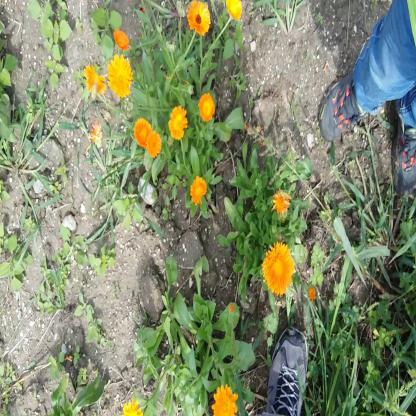marigold: (263, 240, 294, 296), (107, 55, 131, 96), (209, 384, 239, 414), (188, 2, 210, 36), (169, 105, 188, 139), (188, 174, 207, 206), (84, 65, 104, 95), (198, 91, 214, 122), (146, 130, 162, 158), (134, 116, 149, 144), (113, 30, 130, 50), (274, 192, 286, 215)
